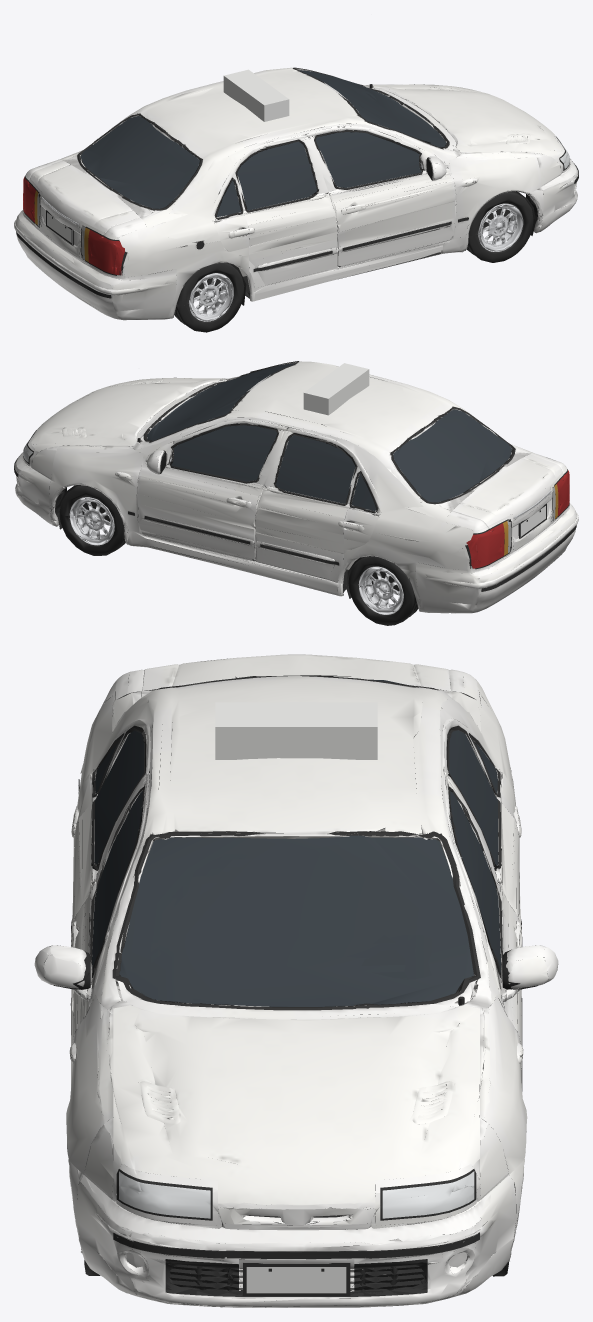
The picture shows the model from 3 angles, top to bottom: view 1: azimuth 30°, elevation 25°; view 2: azimuth 150°, elevation 25°; view 3: azimuth 270°, elevation 25°; orthographic projection. The views are drawn at different scales.
Parts seen in each view (by area): view 1: taxi_barao; view 2: taxi_barao; view 3: taxi_barao.
Boxes of the visible parts, <box> form: taxi_barao: <box>14,67,578,332</box>; taxi_barao: <box>14,361,578,625</box>; taxi_barao: <box>34,654,558,1307</box>.
Bounding box in the file's own units: 4.39 × 1.59 × 2.
Materials: 13 (1 with a texture image).
